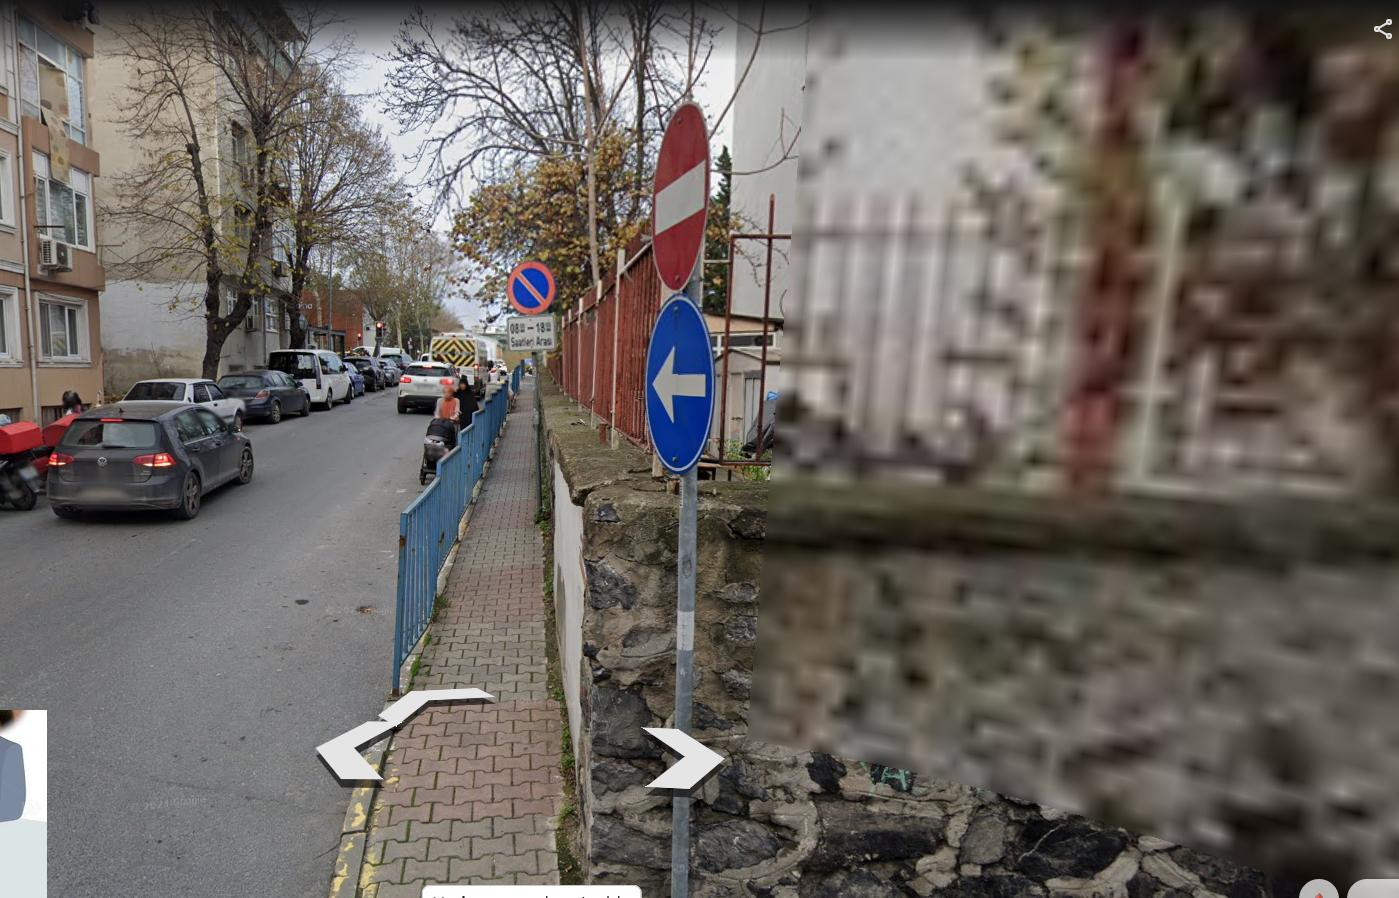nopark: (509, 262, 555, 313)
redlight: (376, 321, 383, 338)
turnleft: (646, 300, 719, 462)
